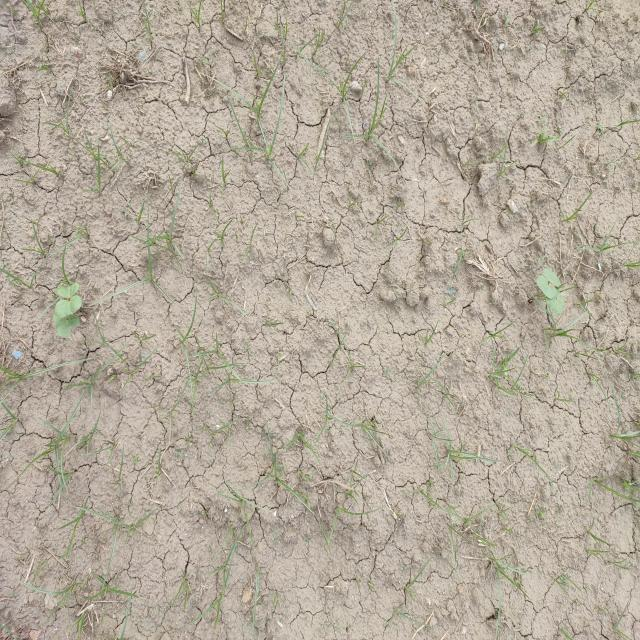seedling: (55, 295, 82, 318), (536, 276, 557, 299), (53, 313, 71, 338), (56, 283, 79, 298), (542, 268, 560, 287), (546, 296, 563, 314), (66, 314, 80, 327), (556, 289, 565, 302)
